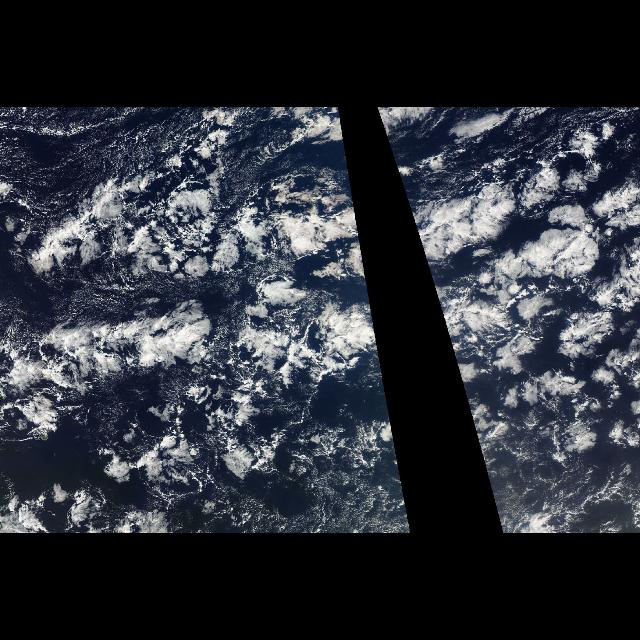Fish: (1, 297, 215, 388)
Gravel: (215, 284, 337, 438)
Sugar: (0, 108, 74, 212), (316, 473, 412, 532), (486, 473, 574, 532)
